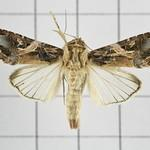Spodoptera litura: (1, 8, 150, 130)
